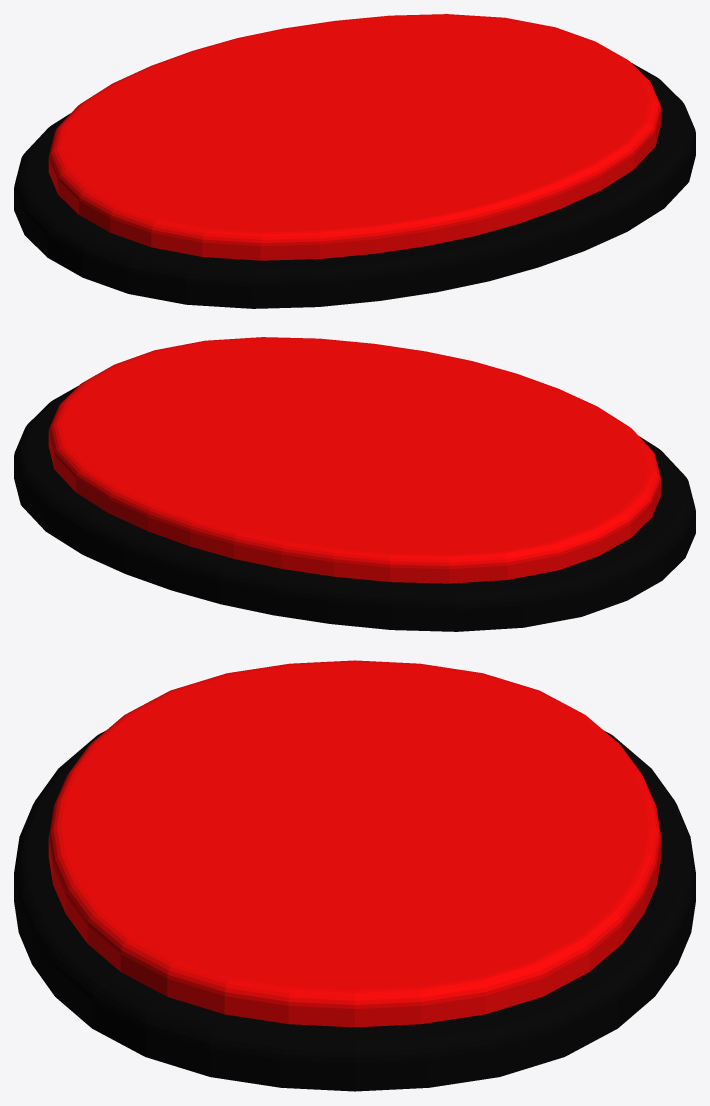
File: MaxBet.fbx
The picture shows the model from 3 angles, top to bottom: view 1: azimuth 30°, elevation 25°; view 2: azimuth 150°, elevation 25°; view 3: azimuth 270°, elevation 25°; orthographic projection. The views are drawn at different scales.
Visible parts, largest first — view 1: 円; view 2: 円; view 3: 円.
Boxes of the visible parts, <box> form: 円: <box>14,14,695,308</box>; 円: <box>14,337,695,631</box>; 円: <box>14,660,695,1091</box>.
Size of the model in its own units: 2.38 by 0.2188 by 1.8.
